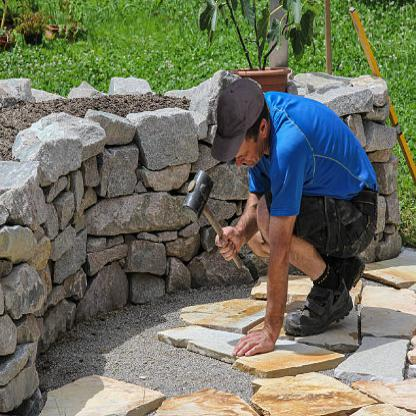Metamorphic_Marble: (15, 102, 107, 182), (133, 104, 205, 179), (86, 192, 192, 240), (0, 170, 57, 240), (5, 256, 48, 319), (53, 232, 92, 282), (133, 228, 169, 278), (108, 77, 154, 112)
